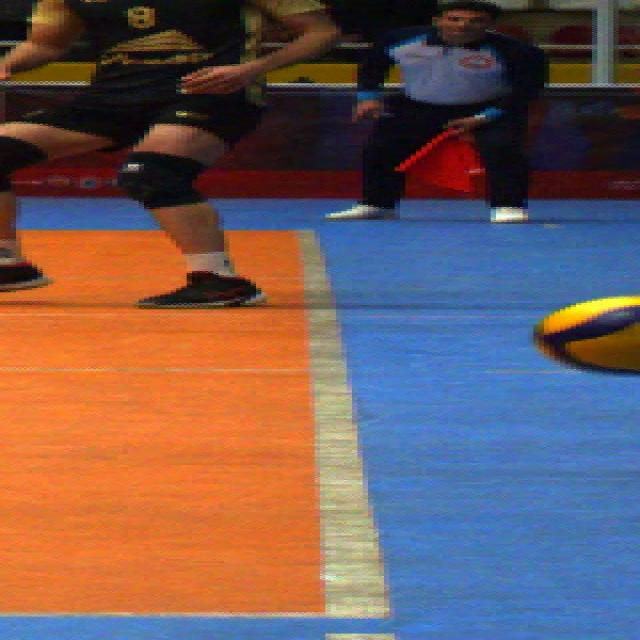Volleyball: (536, 296, 640, 375)
